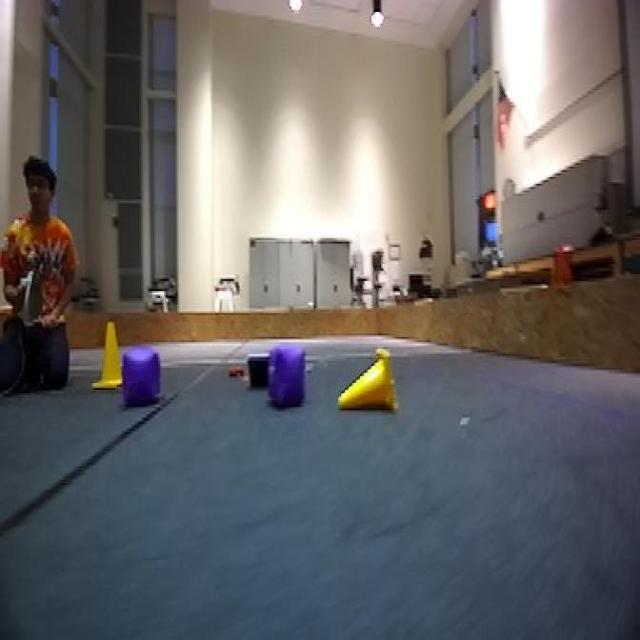frc_cone: (334, 342, 401, 426), (94, 316, 132, 389)
frc_cube: (266, 342, 310, 410), (120, 341, 157, 414)
